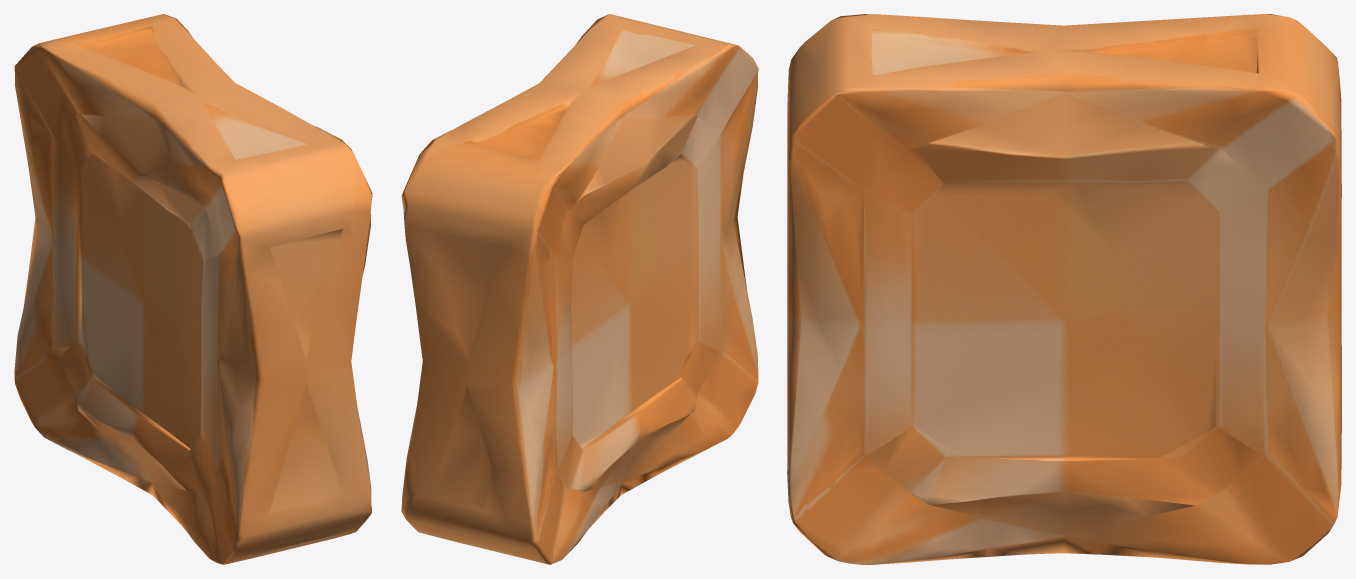
File: tripo_convert_d94ea3e9-849a-4509-9e55-9cd5786444cb.fbx
The picture shows the model from 3 angles, left to right: view 1: azimuth 30°, elevation 25°; view 2: azimuth 150°, elevation 25°; view 3: azimuth 270°, elevation 25°; orthographic projection. The views are drawn at different scales.
Visible parts, largest first — view 1: tripo_node_d94ea3e9; view 2: tripo_node_d94ea3e9; view 3: tripo_node_d94ea3e9.
Part boxes in pixels (<box>): tripo_node_d94ea3e9: <box>14,14,372,564</box>; tripo_node_d94ea3e9: <box>401,14,758,564</box>; tripo_node_d94ea3e9: <box>787,14,1341,564</box>.
Size of the model in its own units: 0.3409 by 0.933 by 0.9796.
1 material, 1 textured.
